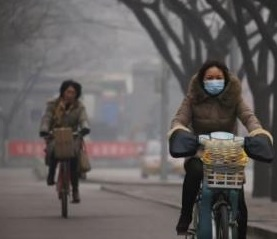person: (168, 60, 269, 239), (38, 78, 94, 218)
